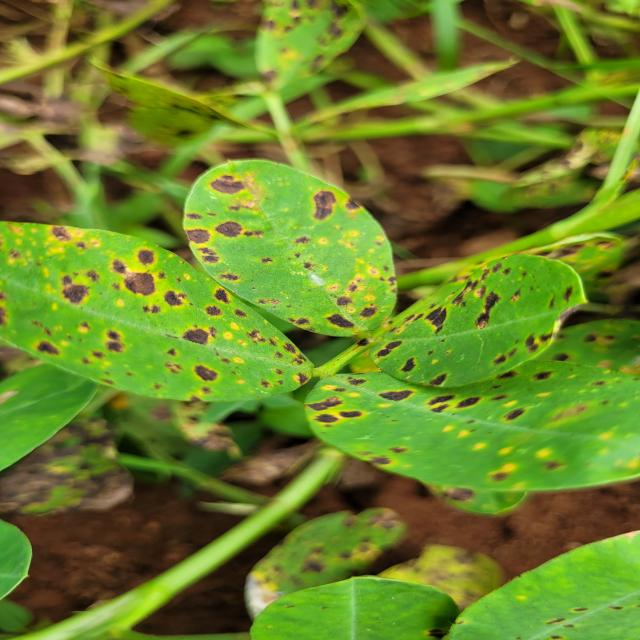Ground nut_tikka leaf spot: (0, 219, 318, 402), (325, 337, 640, 490), (187, 153, 409, 342), (365, 262, 594, 381)
